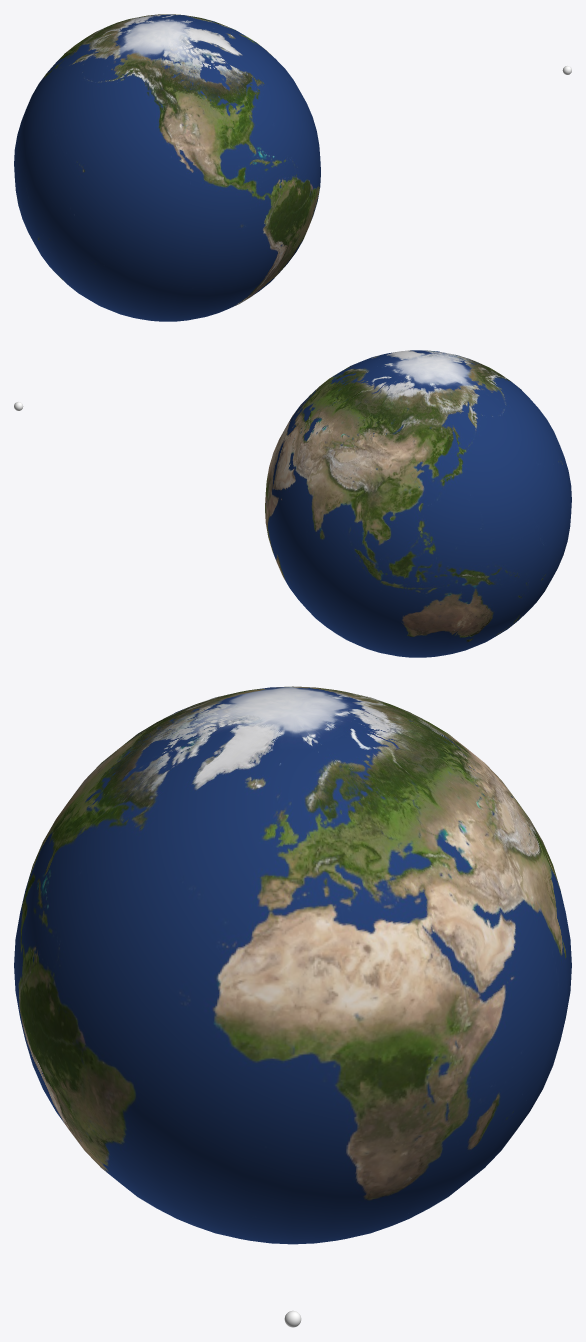
File: earth_moon.gltf
3 views of the same model, one above another, from view 1: azimuth 30°, elevation 25°; view 2: azimuth 150°, elevation 25°; view 3: azimuth 270°, elevation 25° (orthographic). The views are drawn at different scales.
Visible parts, largest first — view 1: Sphere; view 2: Sphere; view 3: Sphere.
Boxes of the visible parts, x1,y1,x2,y2 form: Sphere: (14,14,320,321); Sphere: (265,350,571,657); Sphere: (14,686,571,1244).
Size of the model in its own units: 4.03 by 2 by 2.
Materials: 2 (1 with a texture image).
